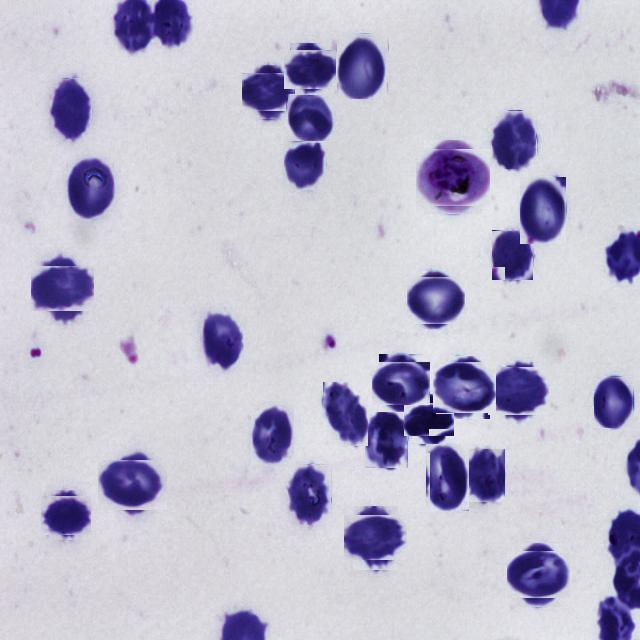red blood cell: (103, 455, 163, 515), (336, 34, 388, 100), (435, 358, 493, 416), (520, 177, 566, 244), (492, 363, 546, 419), (426, 443, 470, 511), (511, 548, 566, 602), (348, 511, 402, 565), (36, 262, 90, 316), (323, 382, 368, 446), (68, 157, 114, 219), (410, 274, 462, 326), (288, 464, 332, 525), (492, 110, 537, 169), (251, 405, 294, 466), (49, 78, 92, 139), (200, 311, 242, 372), (376, 358, 426, 408), (365, 412, 408, 468), (286, 94, 334, 143), (465, 449, 505, 502), (246, 70, 292, 116), (287, 46, 333, 92), (284, 142, 326, 192), (492, 230, 534, 280), (594, 376, 634, 428), (44, 492, 88, 538), (408, 398, 450, 441)
schizont: (420, 144, 486, 210)
